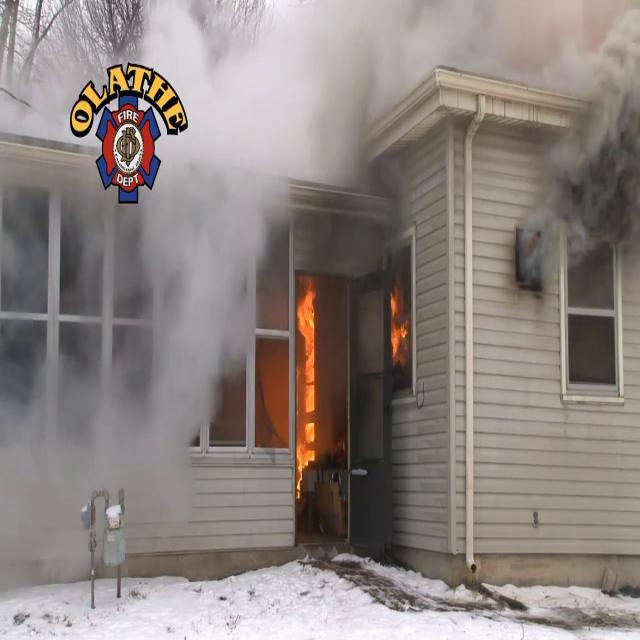Fire: (293, 274, 319, 490), (388, 277, 408, 367)
Smoke: (0, 24, 290, 453), (540, 0, 640, 293)
